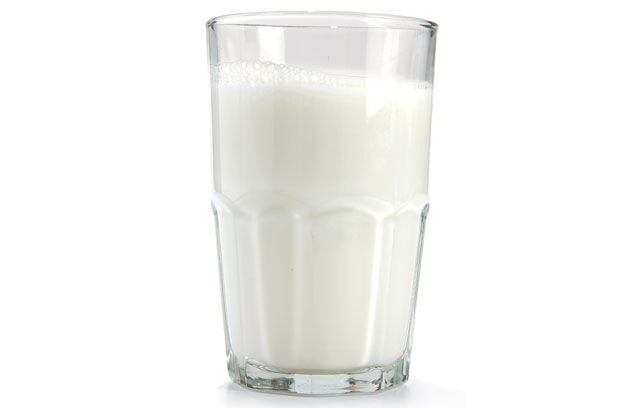glass of milk: (197, 8, 446, 395)
